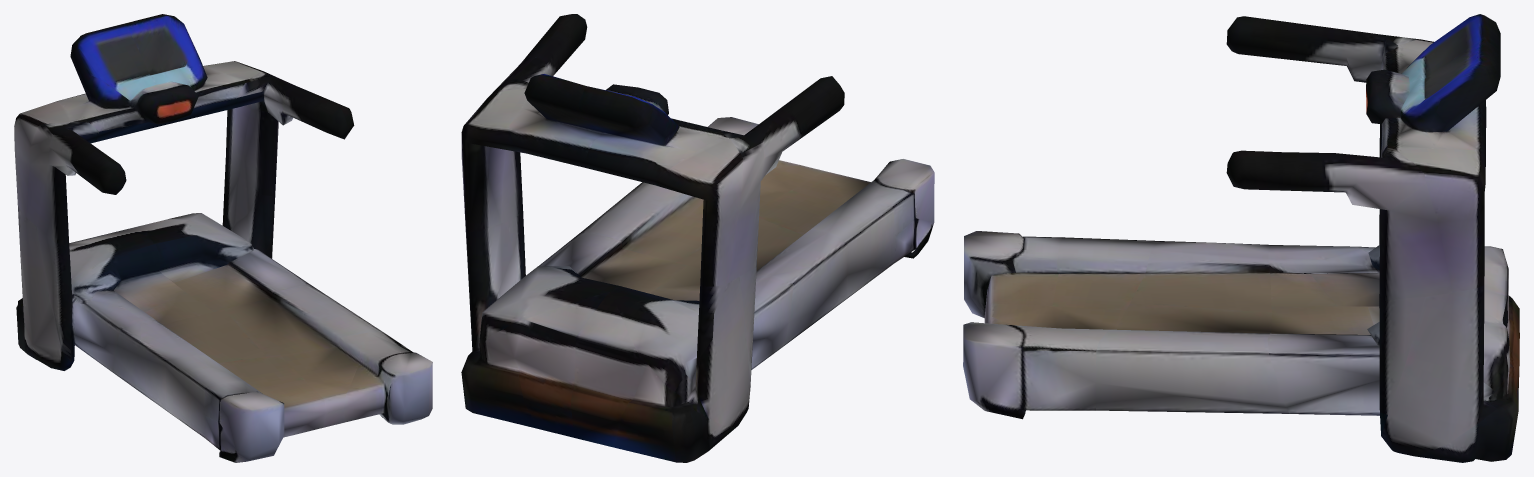
The model's file is treadmill.glb.
The picture shows the model from 3 angles, left to right: view 1: azimuth 30°, elevation 25°; view 2: azimuth 150°, elevation 25°; view 3: azimuth 270°, elevation 25°; orthographic projection. The views are drawn at different scales.
Parts seen in each view (by area): view 1: tripo_node_b732d56b-a4b3-4341-a84e-67629675c41b; view 2: tripo_node_b732d56b-a4b3-4341-a84e-67629675c41b; view 3: tripo_node_b732d56b-a4b3-4341-a84e-67629675c41b.
Part boxes in pixels (x1,y1,x2,y2): tripo_node_b732d56b-a4b3-4341-a84e-67629675c41b: (14, 14, 432, 462); tripo_node_b732d56b-a4b3-4341-a84e-67629675c41b: (461, 14, 934, 462); tripo_node_b732d56b-a4b3-4341-a84e-67629675c41b: (963, 14, 1519, 462).
Size of the model in its own units: 0.627 by 0.7278 by 0.9985.
1 material, 1 textured.
